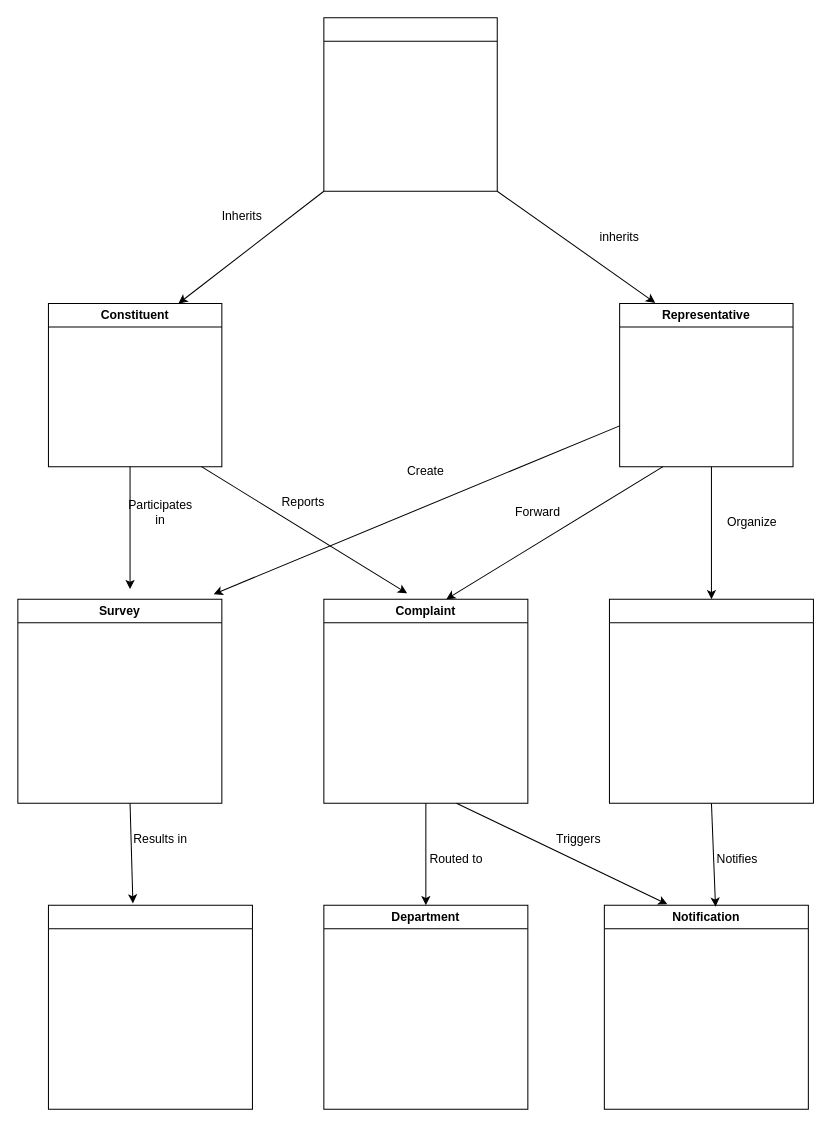
Image size: 831x1127. Some labels were removed from this diagram. Here are the shapes that lost their labels. From the top down, the centre of each, then its label:
the point at 410,104: User
the point at 710,700: Event
the point at 149,1006: Feedback
